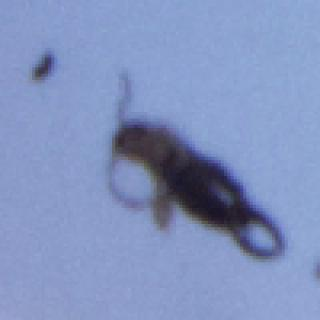earwig: (99, 68, 289, 270)
